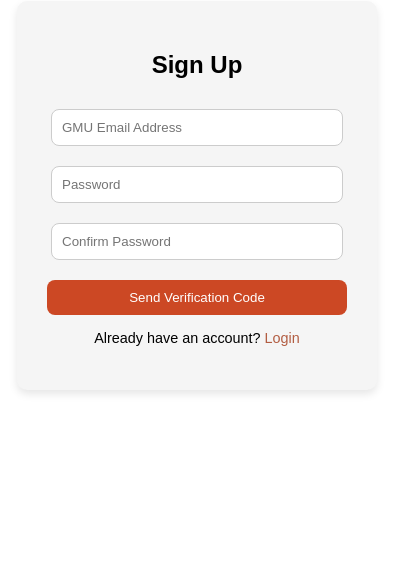
Test case: SignUpForm Component › sends verification code successfully
The width and height of the screenshot is (395, 567).
Type "user@gmu.edu" into the field with placeholder "GMU Email Address" at point(197, 127), box 51,109 -> 343,146
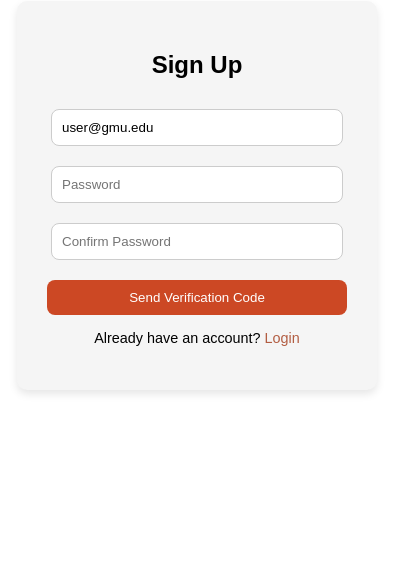
Type "password123" into the password field with placeholder "Password" at point(197, 184), box 51,166 -> 343,203
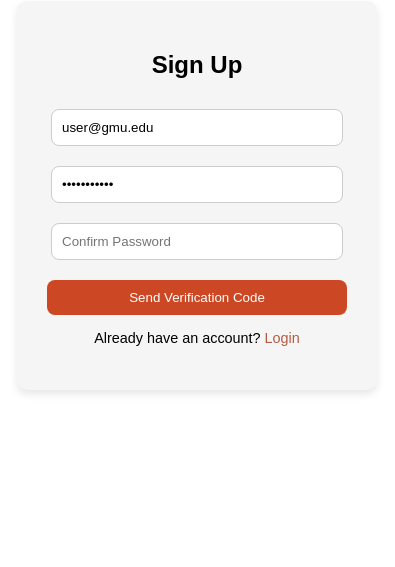
Type "password123" into the password field with placeholder "Confirm Password" at point(197, 241), box 51,223 -> 343,260
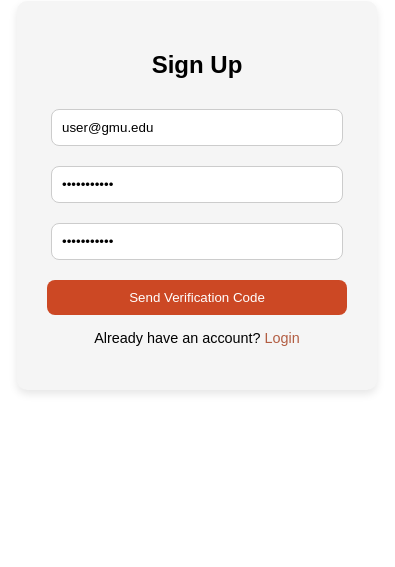
Click the button "Send Verification Code" at point(197, 297), box 47,280 -> 347,315
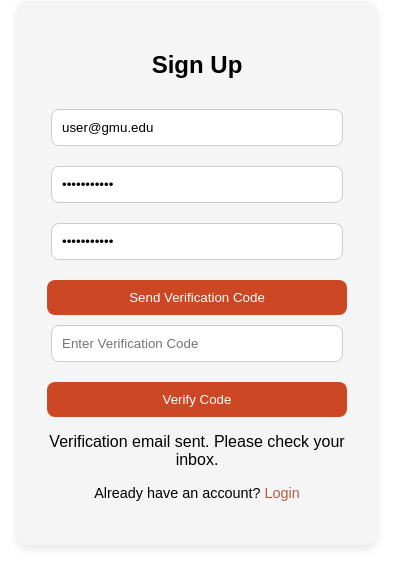
expect the text "Verification email sent. Please check your inbox." is shown: met, box 47,433 -> 347,469
